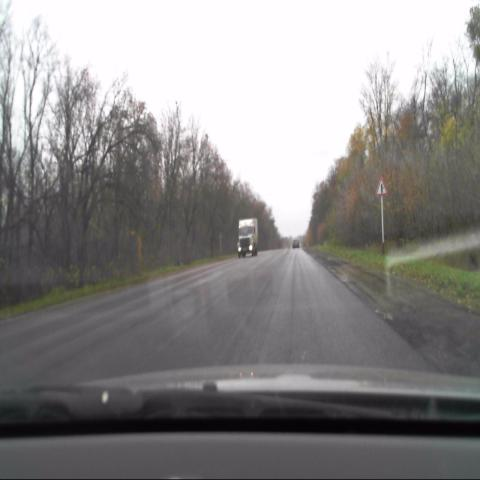2_3_2: (376, 176, 386, 196)
